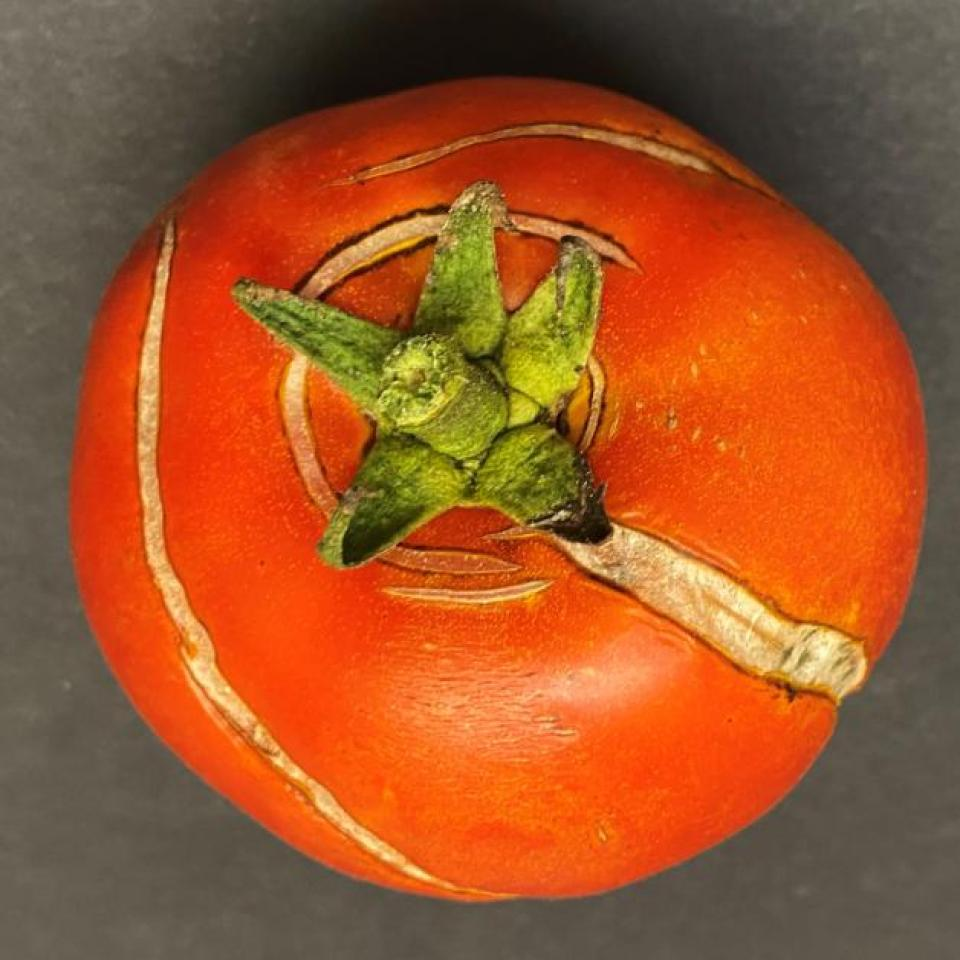Cracking: (126, 207, 491, 888), (503, 452, 887, 744), (253, 306, 517, 570), (210, 193, 658, 311), (315, 115, 794, 221), (346, 563, 612, 627)
